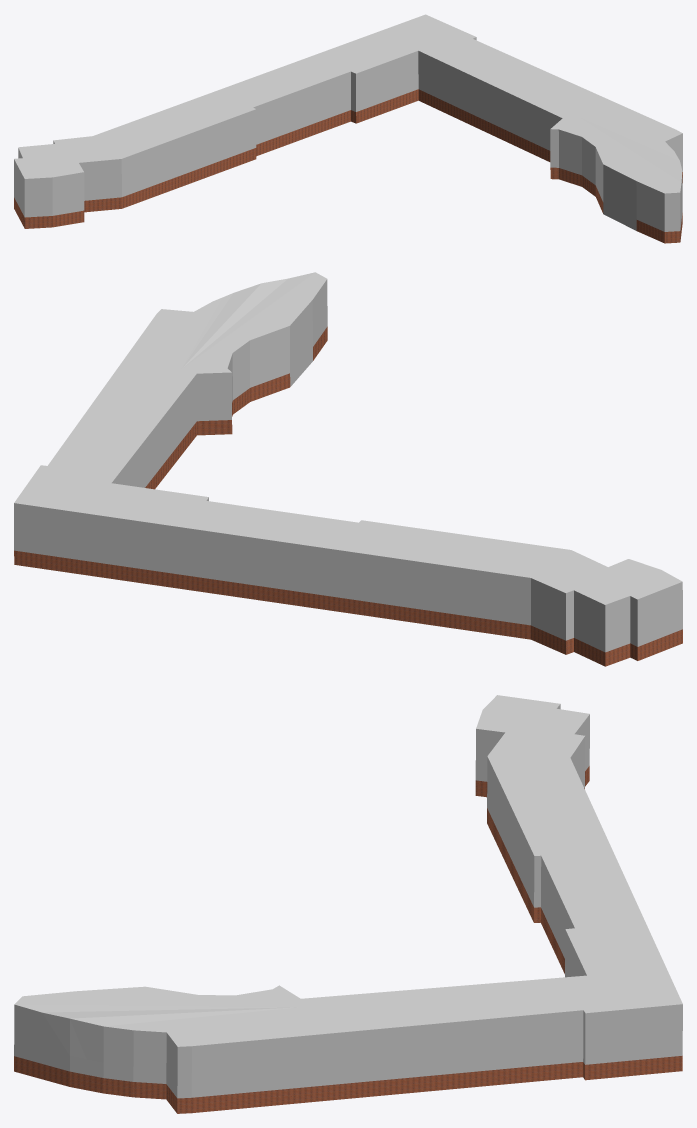
Rendered from n_block.glb.
The picture shows the model from 3 angles, top to bottom: view 1: azimuth 30°, elevation 25°; view 2: azimuth 150°, elevation 25°; view 3: azimuth 270°, elevation 25°; orthographic projection. The views are drawn at different scales.
Visible parts, largest first — view 1: TPX_Buildings_436; view 2: TPX_Buildings_436; view 3: TPX_Buildings_436.
Boxes of the visible parts, x1,y1,x2,y2 form: TPX_Buildings_436: (14, 14, 682, 243); TPX_Buildings_436: (14, 272, 682, 666); TPX_Buildings_436: (14, 695, 682, 1113).
Bounding box in the file's own units: 29.47 × 2.77 × 23.57.
2 materials, 1 textured.
